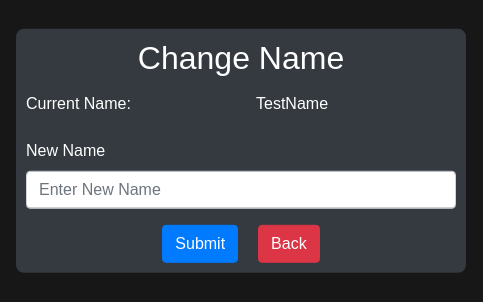
Test: ChangeProfileInfo › Functionality › change Name › should catch error on update db name change
Type "newName" into the field labelled "New Name" at (241, 190), box left=26, top=171, right=456, bottom=209
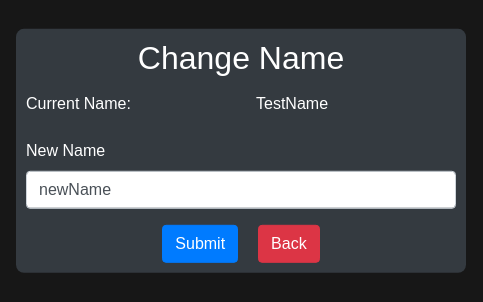
Click the button "Submit" at (200, 244), box left=162, top=225, right=238, bottom=263
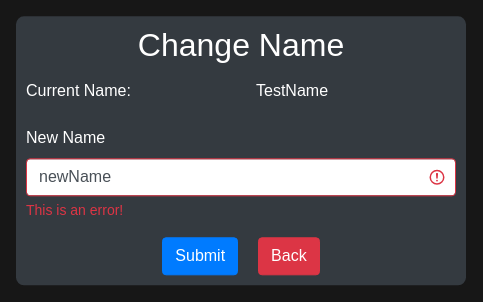
Expected: the text "This is an error!" is shown, left=26, top=203, right=123, bottom=219
